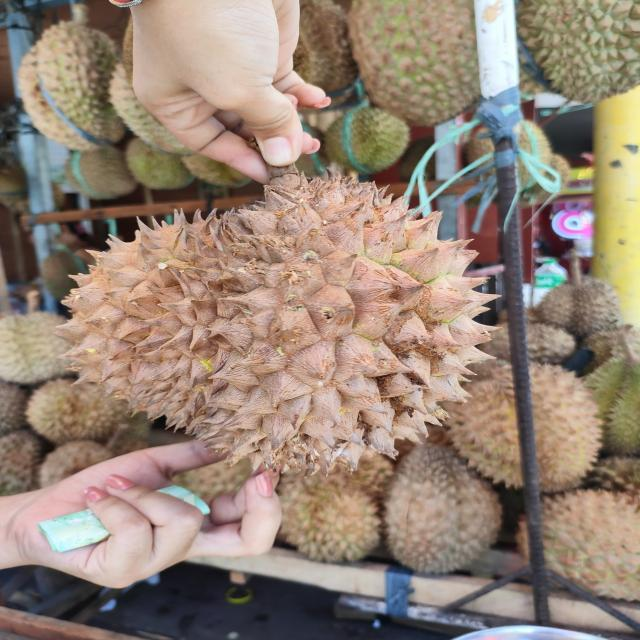mature: (62, 171, 508, 476), (438, 356, 608, 495), (381, 447, 503, 576), (517, 488, 640, 603)
